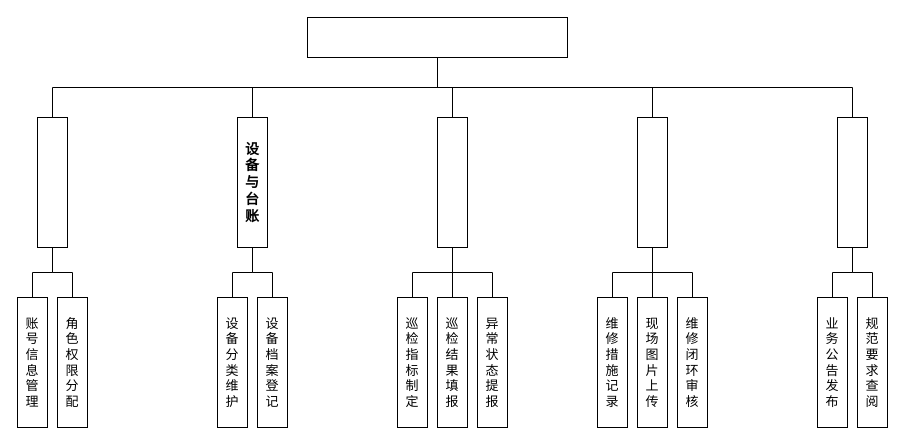
Some shapes in this 905 by 445 pixel diagram are drawn without their labels. The box of each missing label's shape, as (x1, y1, x2, y2) in pixels:
公 告 与 信 息: (836, 116, 868, 248)
巡 检 与 标 准: (436, 116, 468, 248)
用 户 与 权 限: (36, 116, 68, 248)
电 力 设 备 巡 检 维 护 系 统: (306, 16, 568, 58)
维 护 与 工 单: (636, 116, 668, 248)
